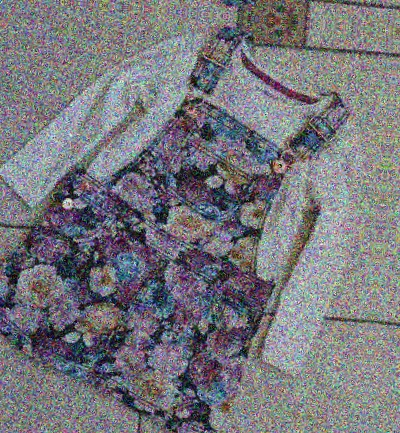Dress: (0, 25, 396, 433), (360, 61, 400, 433), (0, 0, 400, 1)
